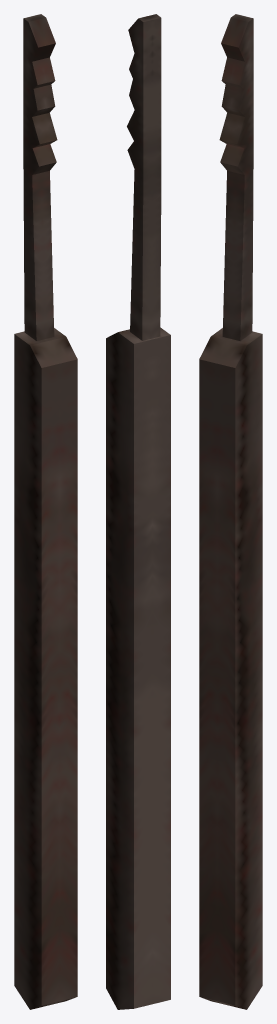
Rendered from Lockpick.fbx.
The picture shows the model from 3 angles, left to right: view 1: azimuth 30°, elevation 25°; view 2: azimuth 210°, elevation 25°; view 3: azimuth 330°, elevation 25°; orthographic projection.
Visible parts, largest first — view 1: Lockpick; view 2: Lockpick; view 3: Lockpick.
Part boxes in pixels (<box>): Lockpick: <box>14,14,77,1009</box>; Lockpick: <box>106,14,170,1009</box>; Lockpick: <box>199,14,262,1009</box>.
Bounding box in the file's own units: 0.0138 × 0.3551 × 0.0179.
